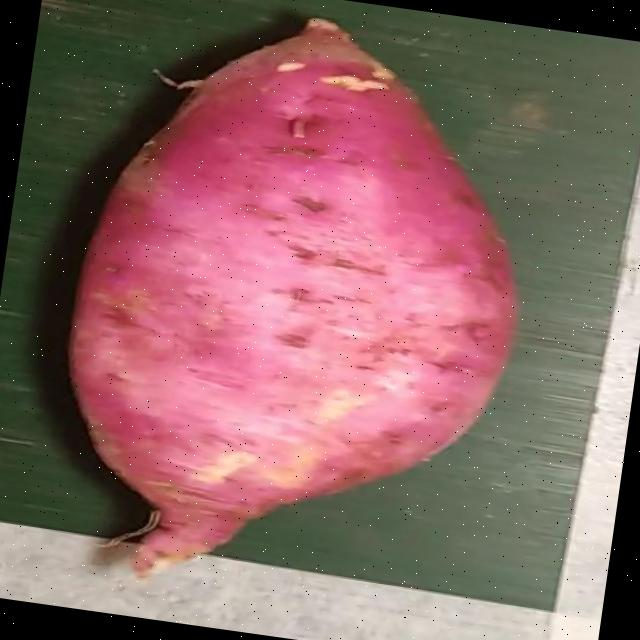Sweet Potato: (69, 19, 517, 567)
